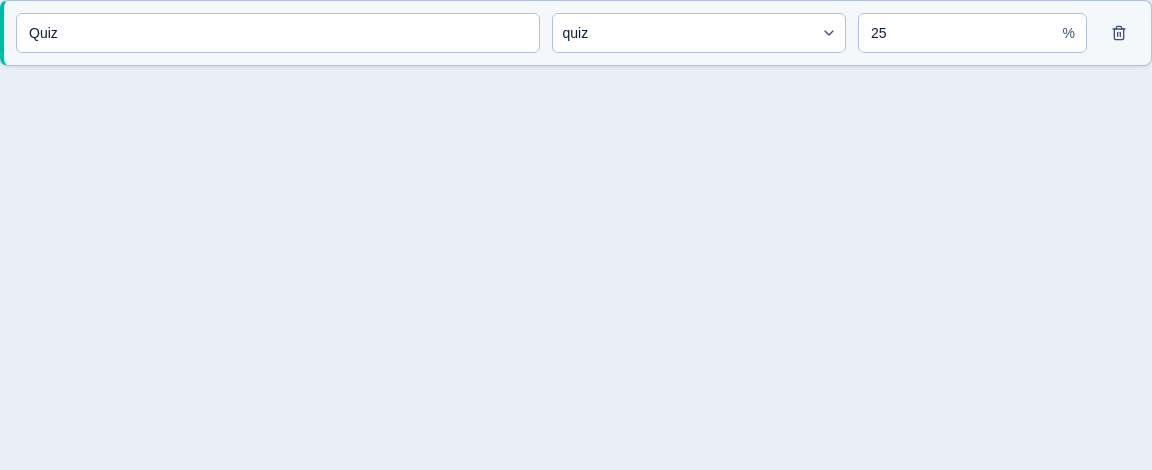
Test case: GradingSchemeComponentRow — category name auto-fill (TICK-ASSESS-004) › keeps Name in step on later type changes while it stays untouched
Click the dropdown: [575, 33] box [552, 13, 846, 53]
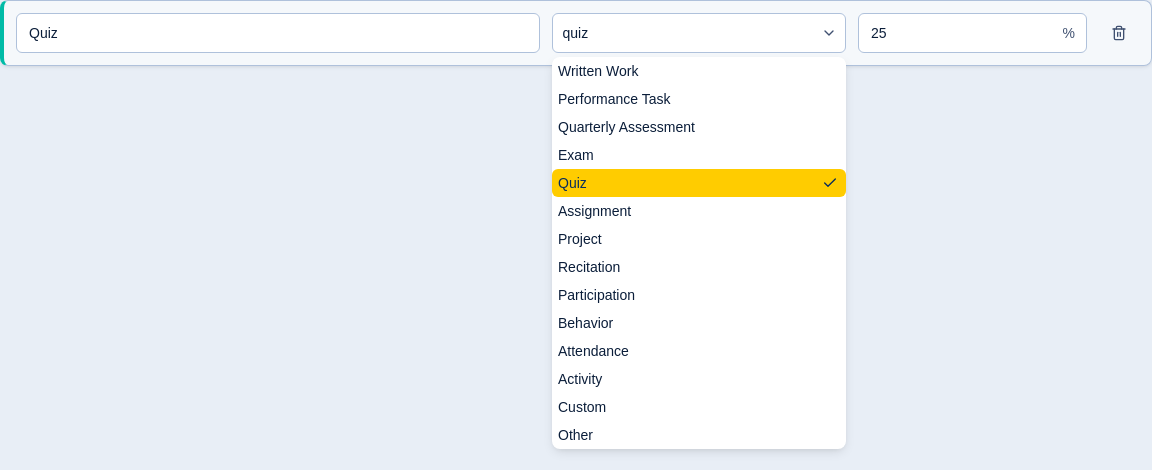
Click the option "Project": [580, 239] box [558, 231, 602, 247]
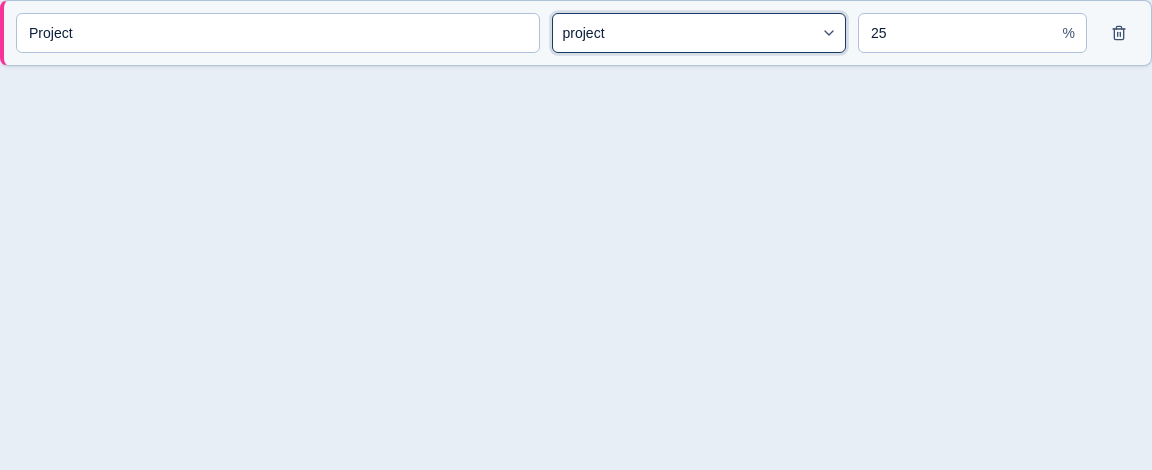
Expected: the field named "Category name" holds "Project", [16, 13, 540, 53]
Click the dropdown: [584, 33] box [552, 13, 846, 53]
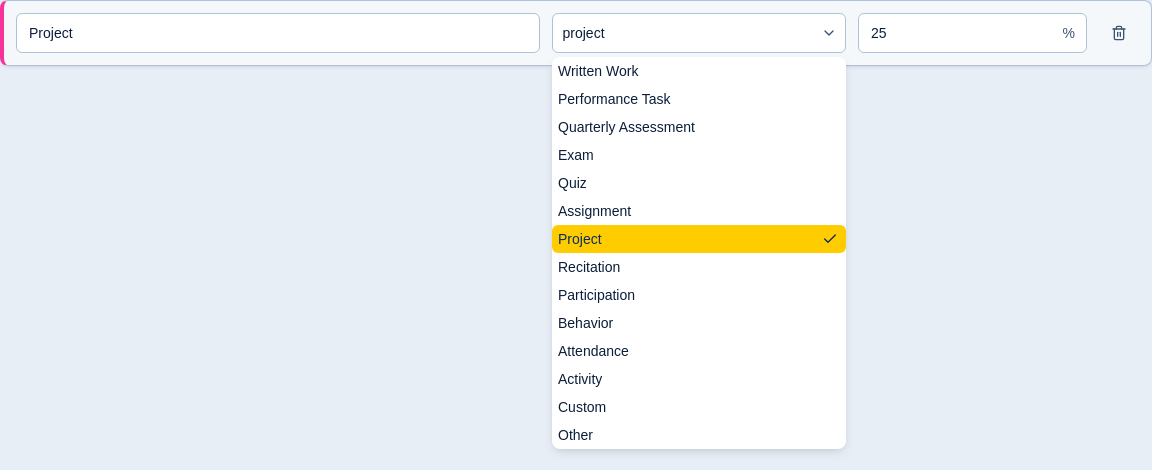
Click the option "Behavior": [586, 323] box [558, 315, 613, 331]
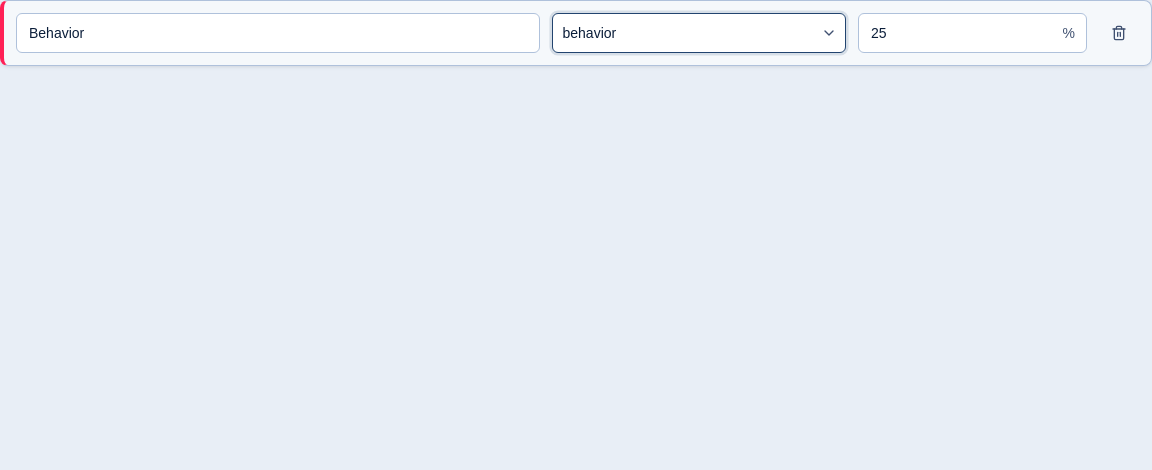
Expected: the field named "Category name" holds "Behavior", [16, 13, 540, 53]
